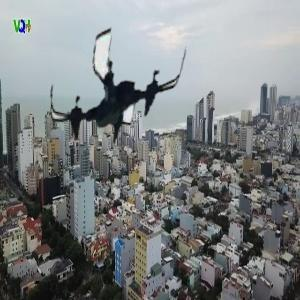drone: (47, 14, 188, 155)
